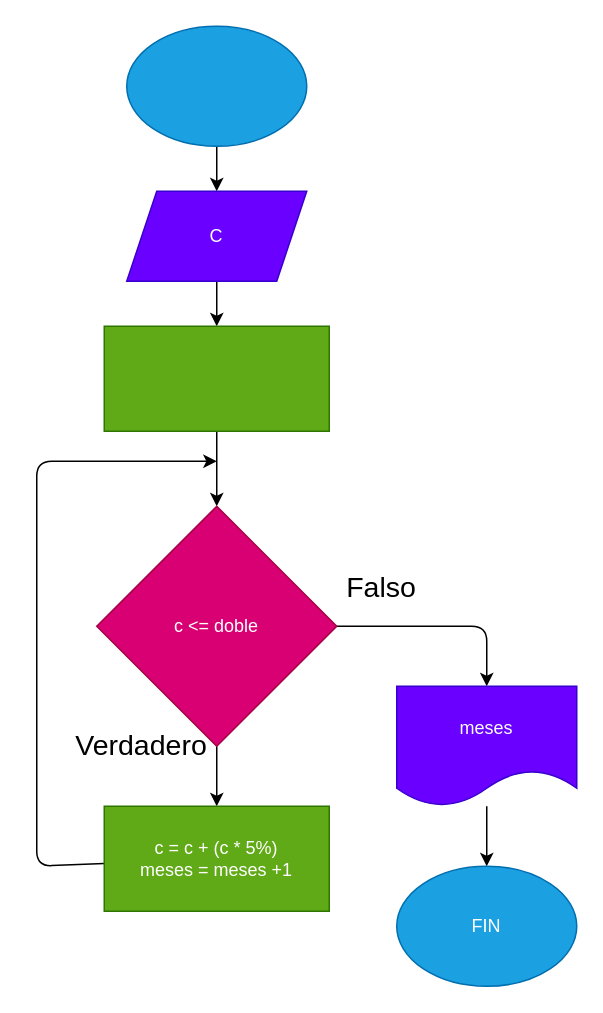
Image size: 603x1013. Some labels were removed from this diagram. The centre of each missing label's shape, as x and y in pixels:
"doble = c * 2 meses = 0" belongs at point 216,378.
"INICIO" belongs at point 216,85.
